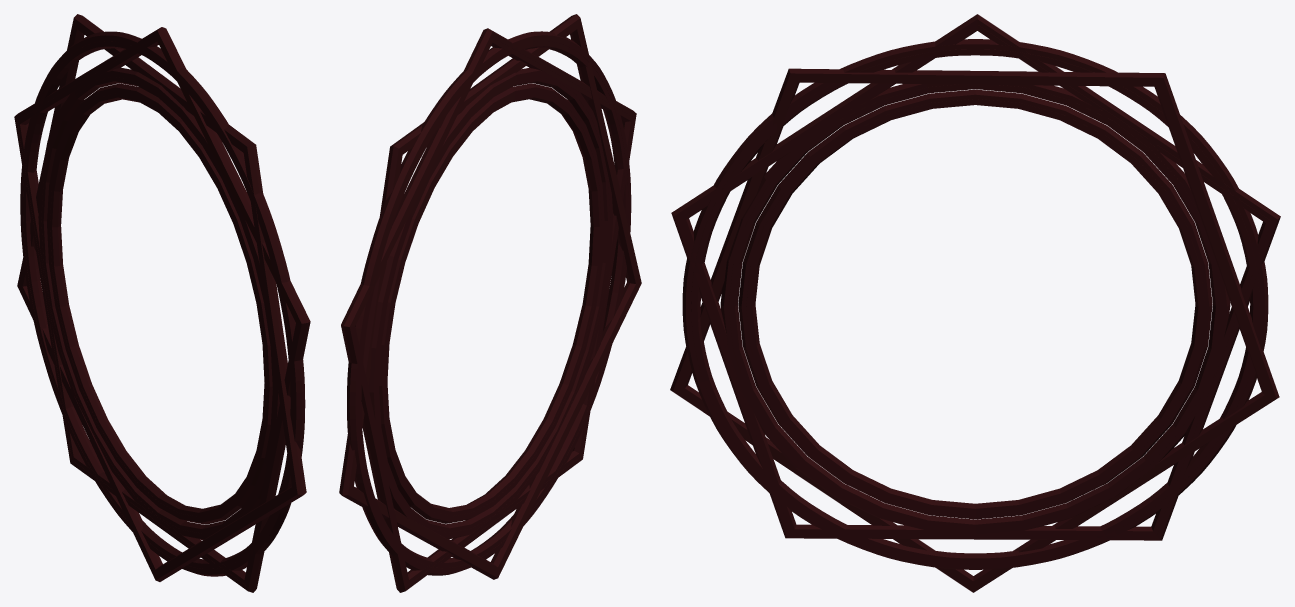
Rendered from frame_cam.glb.
The picture shows the model from 3 angles, left to right: view 1: azimuth 30°, elevation 25°; view 2: azimuth 150°, elevation 25°; view 3: azimuth 270°, elevation 25°; orthographic projection. The views are drawn at different scales.
Visible parts, largest first — view 1: Circle.020; view 2: Circle.020; view 3: Circle.020.
Boxes of the visible parts, <box> form: Circle.020: <box>14,14,310,592</box>; Circle.020: <box>339,14,641,592</box>; Circle.020: <box>670,14,1280,592</box>.
Bounding box in the file's own units: 0.0981 × 2.78 × 2.65.
